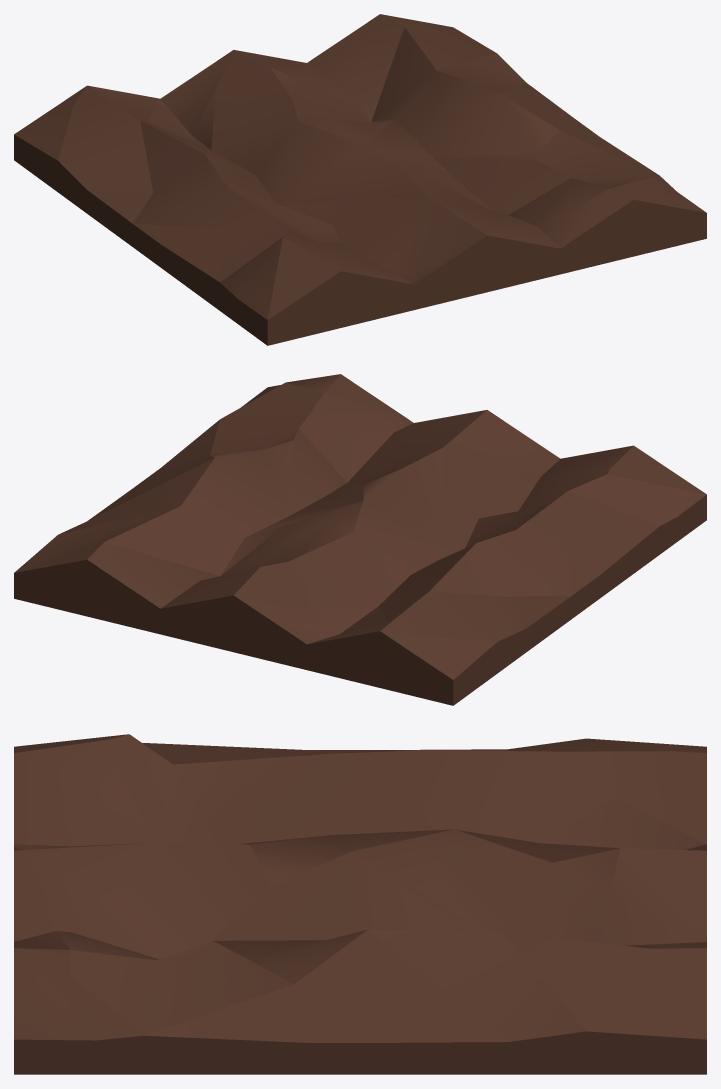
File: Mud_Patch_V.glb
3 renders of one model, top to bottom at view 1: azimuth 30°, elevation 25°; view 2: azimuth 150°, elevation 25°; view 3: azimuth 270°, elevation 25°, orthographic. The views are drawn at different scales.
Parts seen in each view (by area): view 1: Mud_Patch_V; view 2: Mud_Patch_V; view 3: Mud_Patch_V.
Boxes of the visible parts, bbox=[...] form: Mud_Patch_V: bbox=[14, 14, 706, 345]; Mud_Patch_V: bbox=[14, 374, 706, 705]; Mud_Patch_V: bbox=[14, 734, 706, 1074].
Size of the model in its own units: 1.47 by 0.2197 by 1.47.
